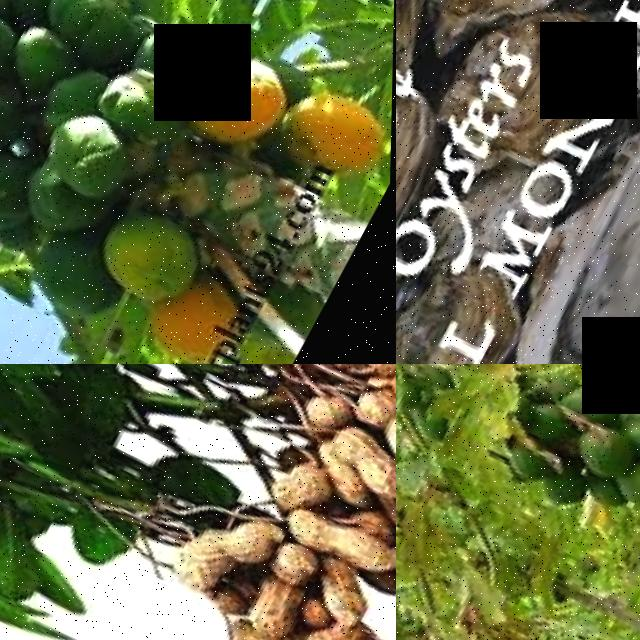oysters: (483, 80, 640, 364), (397, 0, 627, 62)
pawpaw: (86, 199, 216, 324), (175, 41, 298, 167), (268, 79, 394, 198), (13, 222, 120, 331), (86, 54, 196, 159), (32, 109, 137, 212), (569, 422, 640, 492), (0, 144, 39, 242), (0, 69, 29, 177), (605, 457, 640, 523)
peanuts: (279, 498, 396, 595), (162, 518, 245, 607), (263, 455, 334, 524), (335, 435, 396, 514), (294, 610, 378, 640), (376, 412, 396, 477)
